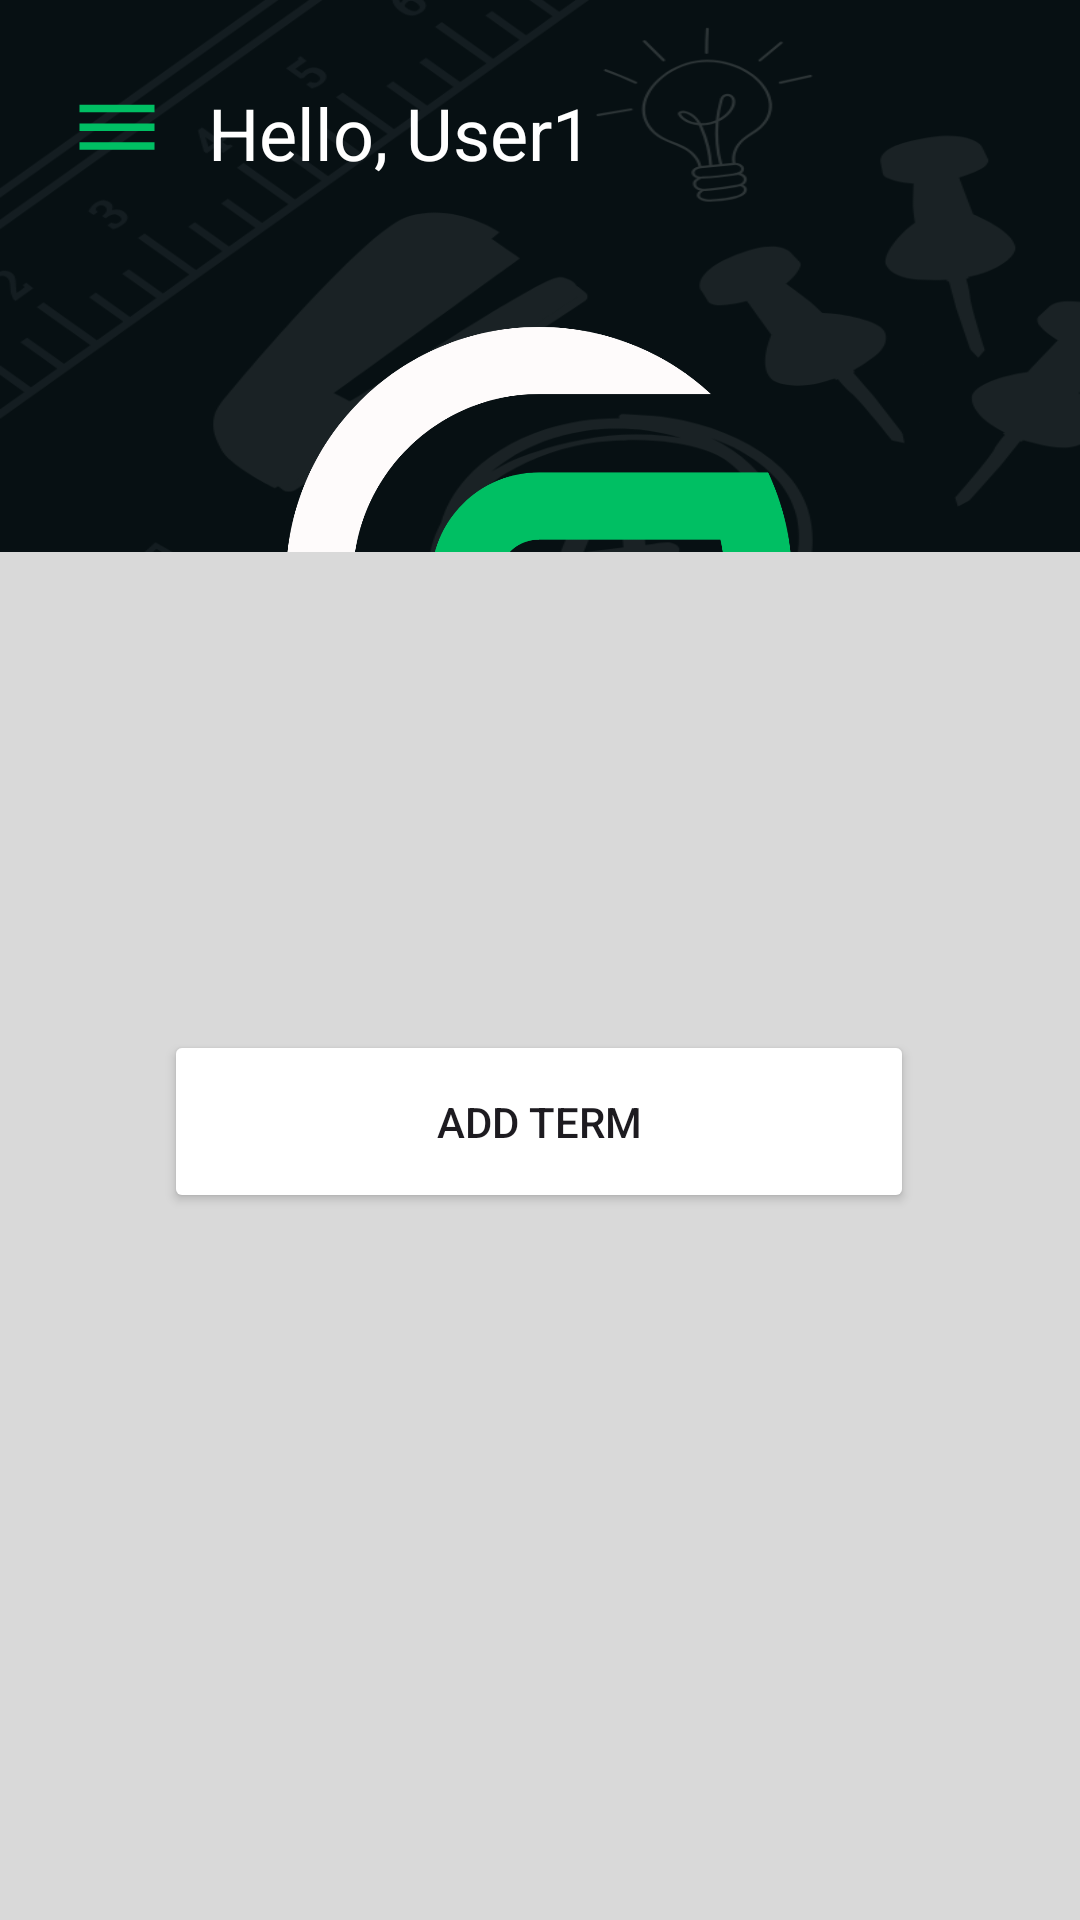

Icon bounding boxes for this 1080×1920 phone screenshot, format [x1,y1,x2,y2]:
burgir: [79,104,155,150]
